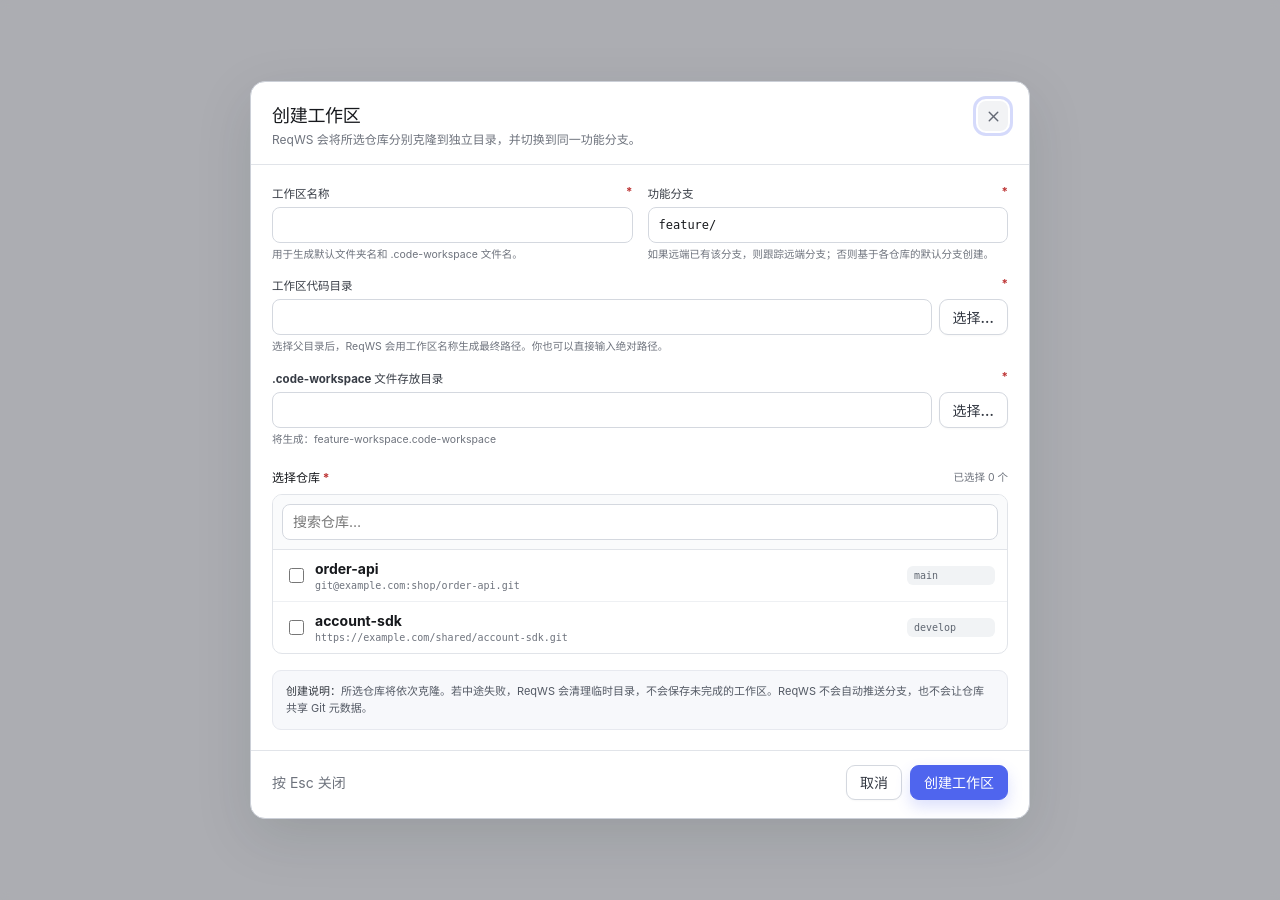
Test: Create Workspace form › requires at least one repository
The image size is (1280, 900).
Type "FEAT-789-export" into the field labelled "工作区名称 * 用于生成默认文件夹名和 .code-workspace 文件名。".
click(452, 225); type("FEAT-789-export")  # box [272, 207, 632, 243]
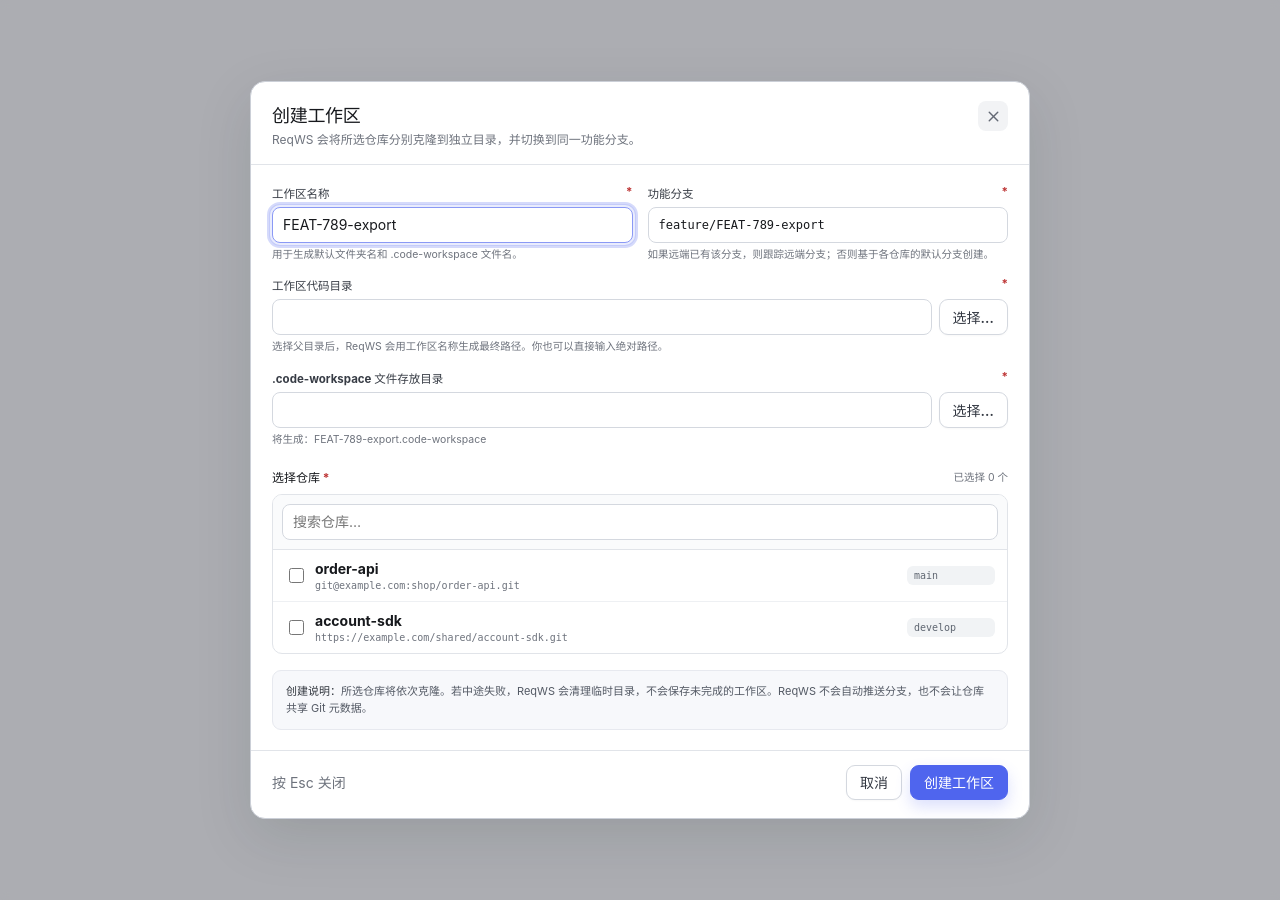
Type "/Users/rose/features/FEAT-789-export" into the field labelled "工作区代码目录 * 选择… 选择父目录后，ReqWS 会用工作区名称生成最终路径。你也可以直接输入绝对路径。".
click(602, 317); type("/Users/rose/features/FEAT-789-export")  # box [272, 299, 932, 335]
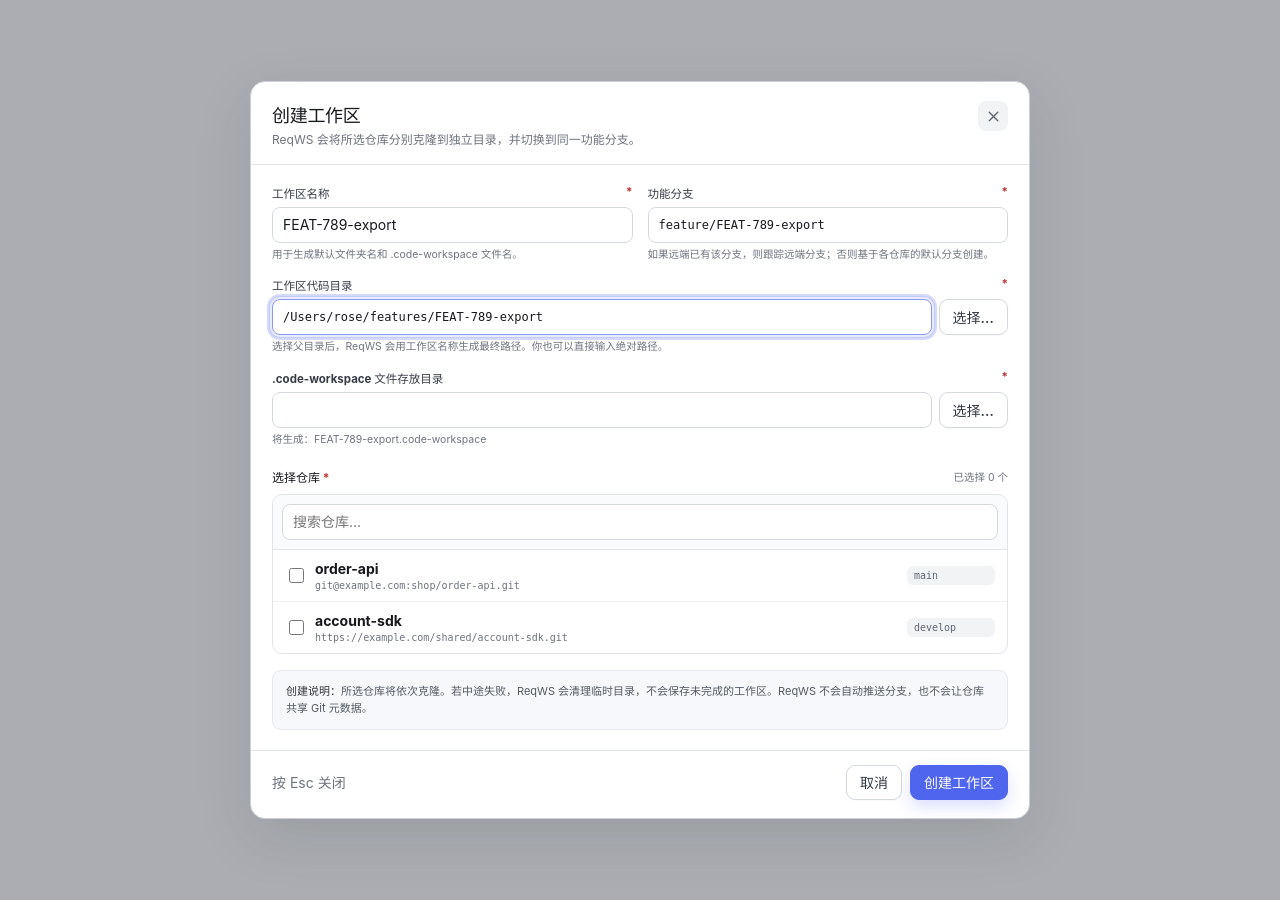
Type "/Users/rose/workspaces" into the field labelled ".code-workspace 文件存放目录".
click(602, 410); type("/Users/rose/workspaces")  # box [272, 392, 932, 428]
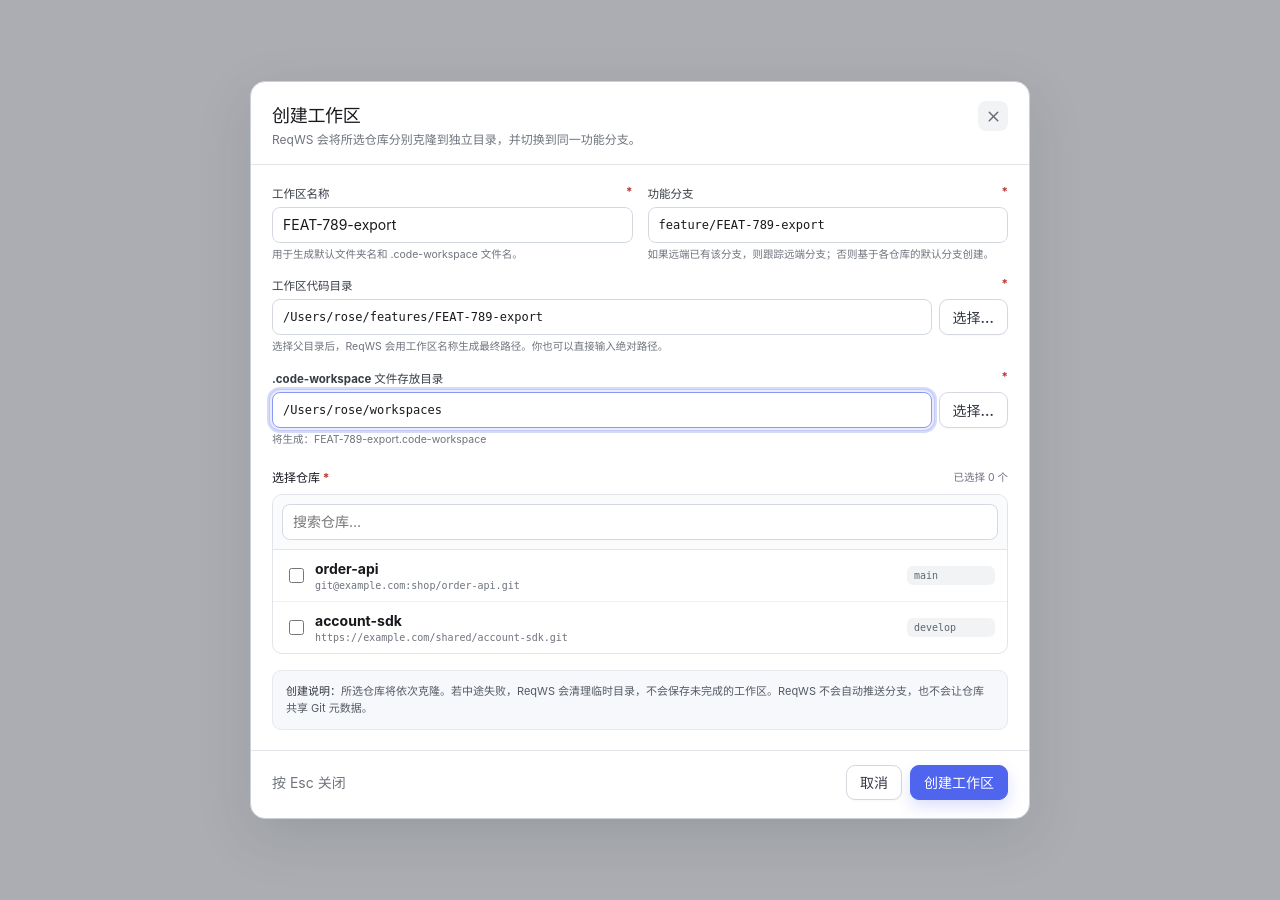
Click the button "创建工作区".
click(959, 782)  # box [910, 765, 1008, 800]
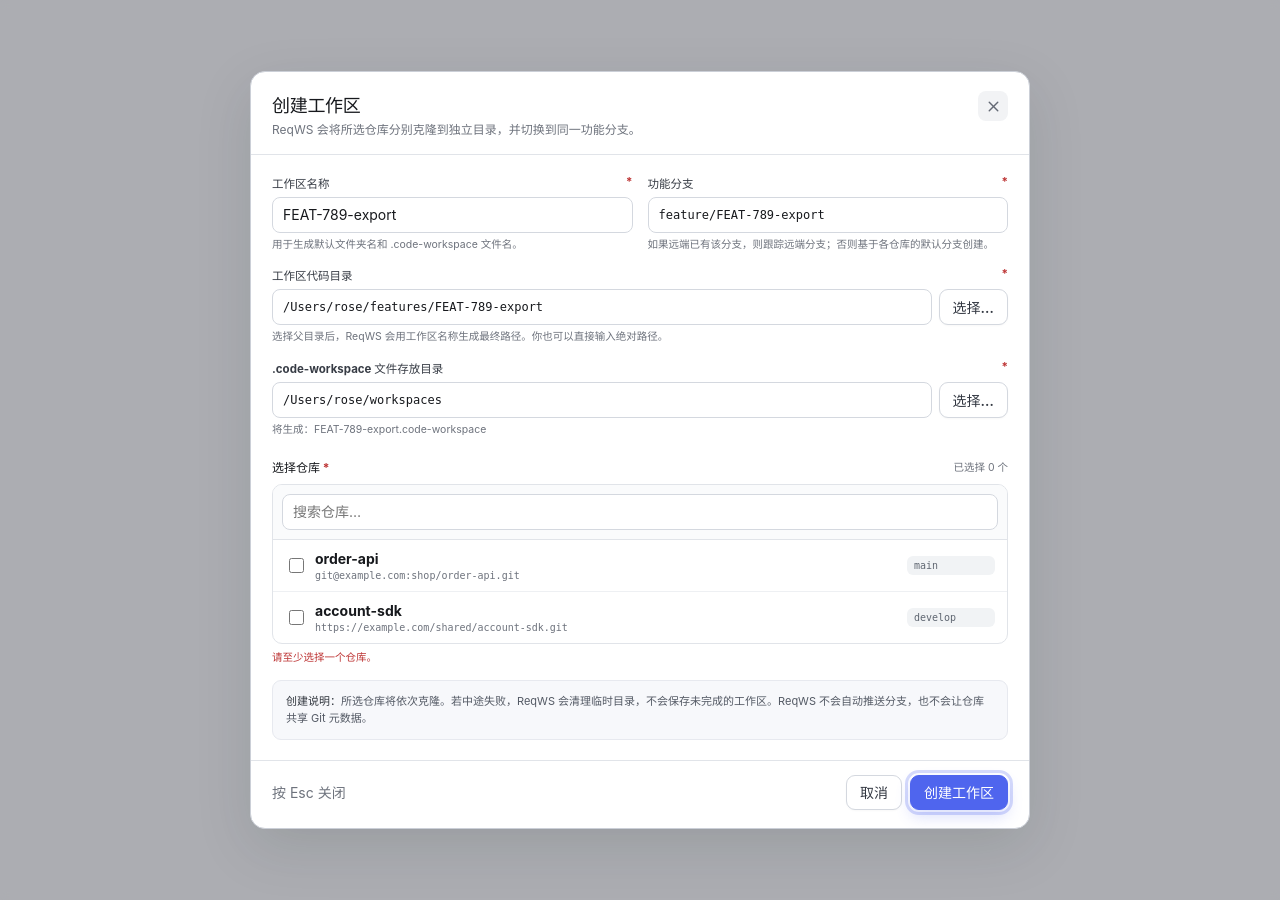
Expected: the message shows "请至少选择一个仓库", [272, 651, 377, 664]
